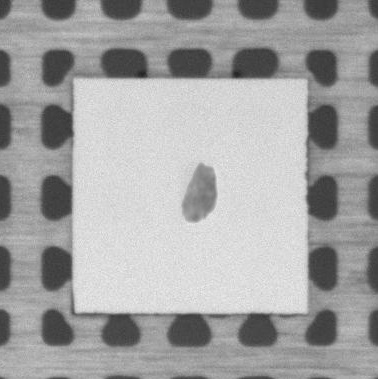DIE_INK: (180, 163, 219, 220)
